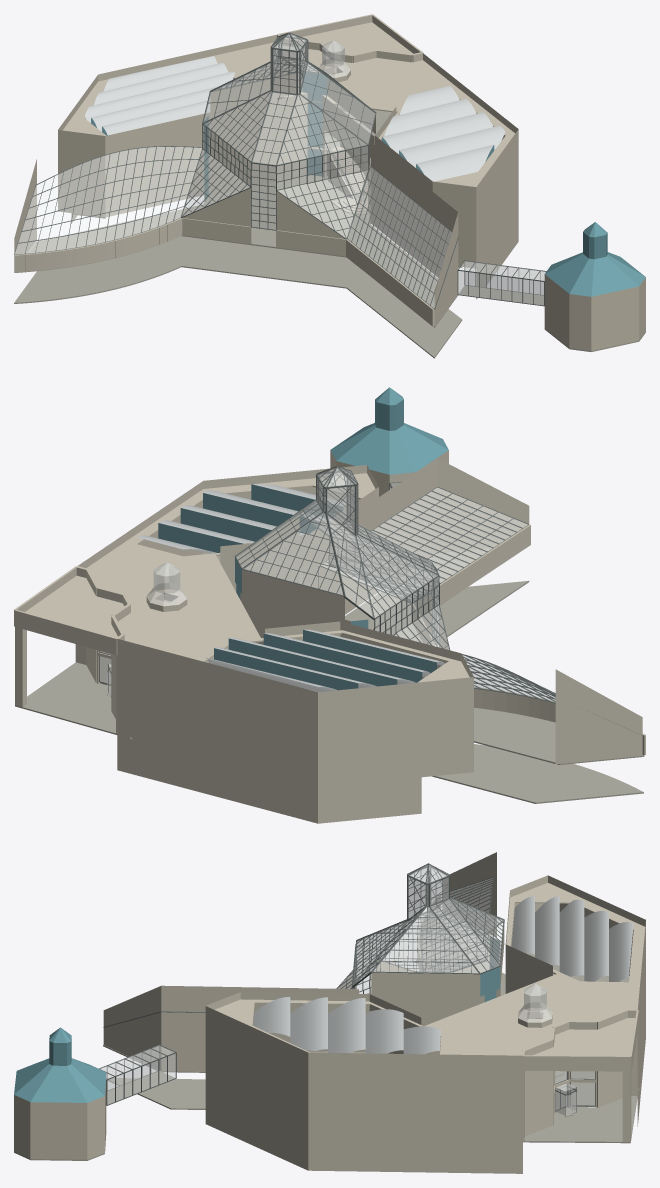
File: MUDAM_R04_UST_MERDIVEN_v003_preview.glb
3 renders of one model, top to bottom at view 1: azimuth 30°, elevation 25°; view 2: azimuth 150°, elevation 25°; view 3: azimuth 270°, elevation 25°, orthographic. The views are drawn at different scales.
Visible parts, largest first — view 1: P05_ZONE_LM1_GALLERIES_FOYER, P05_MAIN_ROOF_DECK, P05_GALLERY_HALL_WEST1, P05_MAIN_ATRIUM_BASE_3, P05_EAST_HIGH_R02_BEFORE, P04_PAV_WALL_ENVELOPE, P05_FRONT_0, P05_FLOOR_L00_GH, P05_GALLERY_HALL_WEST2, P04_PAV_ROOF_SLOPE, P05_FLOOR_L00_WEST_CAFE, P05_FLOOR_L00_EAST_GARDEN (+20 smaller); view 2: P05_FRONT_9, P05_MAIN_ROOF_DECK, P05_FRONT_10, P05_ZONE_LM1_GALLERIES_FOYER, P05_EAST_HIGH_R02_BEFORE, P05_WEST_END, P05_EAST_END, P05_GALLERY_HALL_WEST3, P04_PAV_ROOF_SLOPE, P07_CANOPY_PAVING_DISPLAY, P05_FLOOR_L00_WEST_CAFE, P07_CANOPY_SLAB_ENVELOPE (+25 smaller); view 3: P05_FRONT_1, P05_MAIN_ROOF_DECK, P05_FRONT_0, P04_PAV_WALL_ENVELOPE, P05_EAST_HIGH_R02_BEFORE, P05_EAST_END, P04_PAV_ROOF_SLOPE, P07_CANOPY_PAVING_DISPLAY, P06_HIGH_EAVE_UPSTAND_5, P07_CANOPY_SLAB_ENVELOPE, P05_WEST_END, P07_ENTRY_RETURN_1 (+15 smaller).
Part boxes in pixels (left/top/right/bottom): P05_ZONE_LM1_GALLERIES_FOYER: left=14, top=236, right=462, bottom=358; P05_MAIN_ROOF_DECK: left=62, top=42, right=517, bottom=186; P05_GALLERY_HALL_WEST1: left=105, top=112, right=212, bottom=217; P05_MAIN_ATRIUM_BASE_3: left=208, top=93, right=307, bottom=196; P05_EAST_HIGH_R02_BEFORE: left=370, top=142, right=457, bottom=277; P04_PAV_WALL_ENVELOPE: left=544, top=274, right=645, bottom=350; P05_FRONT_0: left=476, top=129, right=518, bottom=299; P05_FLOOR_L00_GH: left=182, top=176, right=370, bottom=257; P05_GALLERY_HALL_WEST2: left=58, top=130, right=105, bottom=217; P04_PAV_ROOF_SLOPE: left=545, top=252, right=645, bottom=296; P05_FLOOR_L00_WEST_CAFE: left=14, top=204, right=202, bottom=272; P05_FLOOR_L00_EAST_GARDEN: left=348, top=224, right=457, bottom=327; P05_FRONT_9: left=117, top=639, right=317, bottom=823; P05_MAIN_ROOF_DECK: left=86, top=473, right=473, bottom=701; P05_FRONT_10: left=318, top=682, right=421, bottom=823; P05_ZONE_LM1_GALLERIES_FOYER: left=432, top=581, right=643, bottom=803; P05_EAST_HIGH_R02_BEFORE: left=319, top=458, right=437, bottom=614; P05_WEST_END: left=555, top=669, right=642, bottom=764; P05_EAST_END: left=437, top=458, right=529, bottom=552; P05_GALLERY_HALL_WEST3: left=421, top=677, right=473, bottom=777; P04_PAV_ROOF_SLOPE: left=330, top=423, right=448, bottom=474; P07_CANOPY_PAVING_DISPLAY: left=15, top=662, right=117, bottom=734; P05_FLOOR_L00_WEST_CAFE: left=474, top=707, right=644, bottom=764; P07_CANOPY_SLAB_ENVELOPE: left=25, top=575, right=124, bottom=637; P05_FRONT_1: left=308, top=1052, right=522, bottom=1173; P05_MAIN_ROOF_DECK: left=207, top=883, right=645, bottom=1064; P05_FRONT_0: left=205, top=1006, right=308, bottom=1170; P04_PAV_WALL_ENVELOPE: left=14, top=1077, right=106, bottom=1159; P05_EAST_HIGH_R02_BEFORE: left=161, top=985, right=358, bottom=1071; P05_EAST_END: left=103, top=986, right=161, bottom=1070; P04_PAV_ROOF_SLOPE: left=14, top=1058, right=106, bottom=1102; P07_CANOPY_PAVING_DISPLAY: left=523, top=1096, right=637, bottom=1143; P06_HIGH_EAVE_UPSTAND_5: left=371, top=972, right=480, bottom=996; P07_CANOPY_SLAB_ENVELOPE: left=533, top=1018, right=635, bottom=1055; P05_WEST_END: left=442, top=852, right=496, bottom=937; P07_ENTRY_RETURN_1: left=522, top=1039, right=553, bottom=1136.
Bounding box in the file's own units: 80.45 × 35.94 × 93.28.
